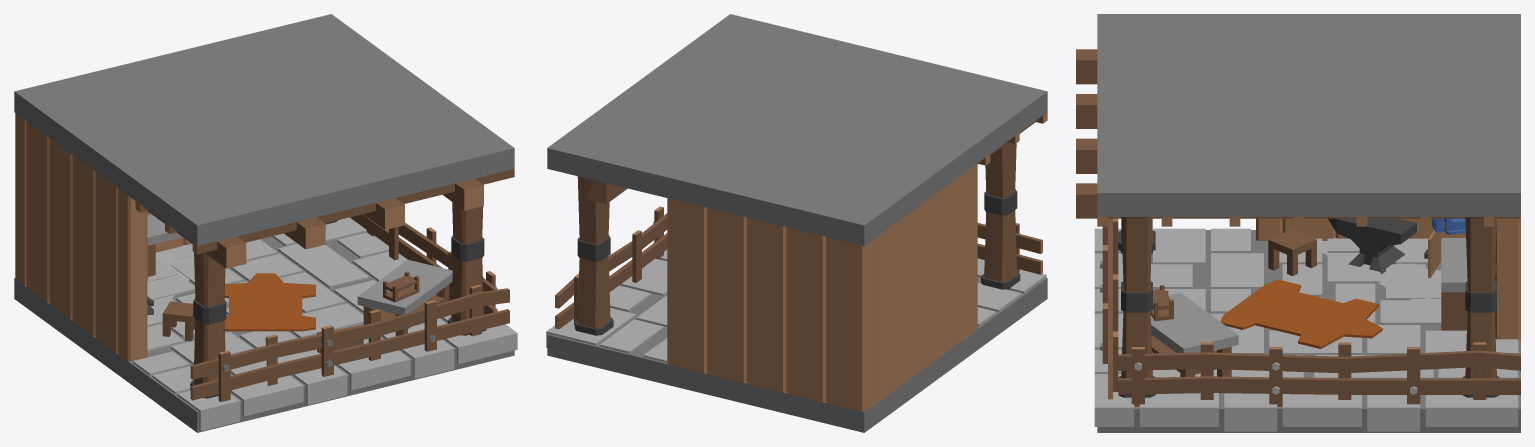
Rendered from WeaponWorkshop_Lvl_01_Corner.fbx.
3 renders of one model, left to right at view 1: azimuth 30°, elevation 25°; view 2: azimuth 150°, elevation 25°; view 3: azimuth 270°, elevation 25°, orthographic. The views are drawn at different scales.
Parts seen in each view (by area): view 1: WeaponWorkshop_Lvl_01_Corner; view 2: WeaponWorkshop_Lvl_01_Corner; view 3: WeaponWorkshop_Lvl_01_Corner.
Part boxes in pixels (<box>): WeaponWorkshop_Lvl_01_Corner: <box>14,14,517,432</box>; WeaponWorkshop_Lvl_01_Corner: <box>546,14,1047,432</box>; WeaponWorkshop_Lvl_01_Corner: <box>1076,14,1520,432</box>.
Bounding box in the file's own units: 8.05 × 5 × 8.4.
